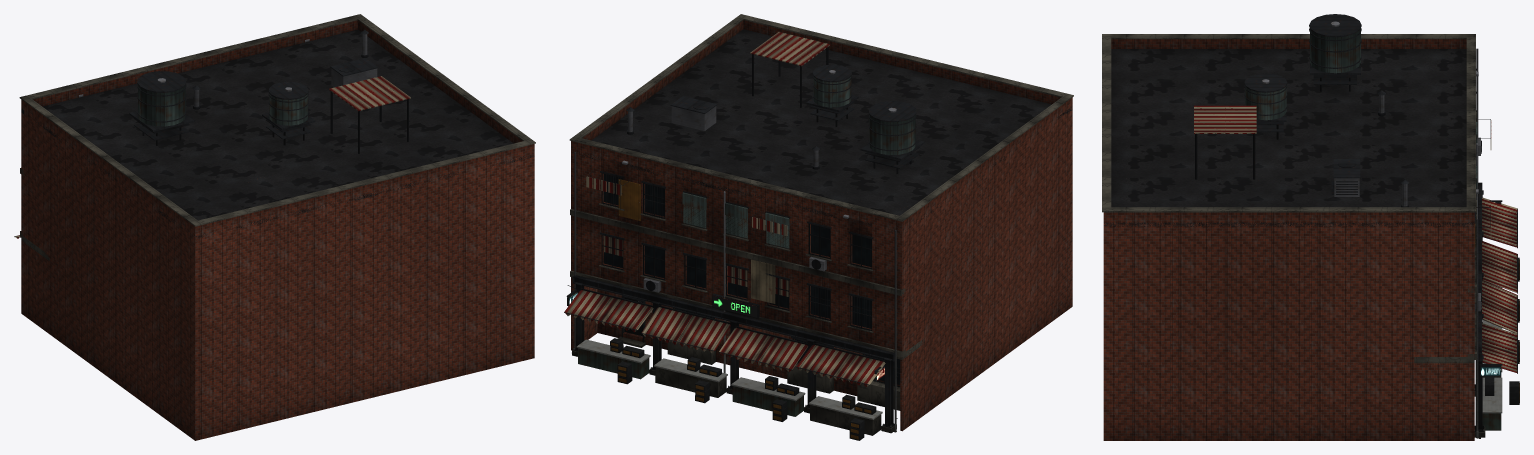
File: market_habitat.glb
3 renders of one model, left to right at view 1: azimuth 30°, elevation 25°; view 2: azimuth 150°, elevation 25°; view 3: azimuth 270°, elevation 25°, orthographic. The views are drawn at different scales.
Visible parts, largest first — view 1: market_habitat; view 2: market_habitat; view 3: market_habitat.
Part boxes in pixels (x1,y1,x2,y2): market_habitat: (14, 14, 535, 440); market_habitat: (564, 14, 1073, 440); market_habitat: (1102, 14, 1519, 440).
Size of the model in its own units: 18.08 by 13.34 by 18.01.
